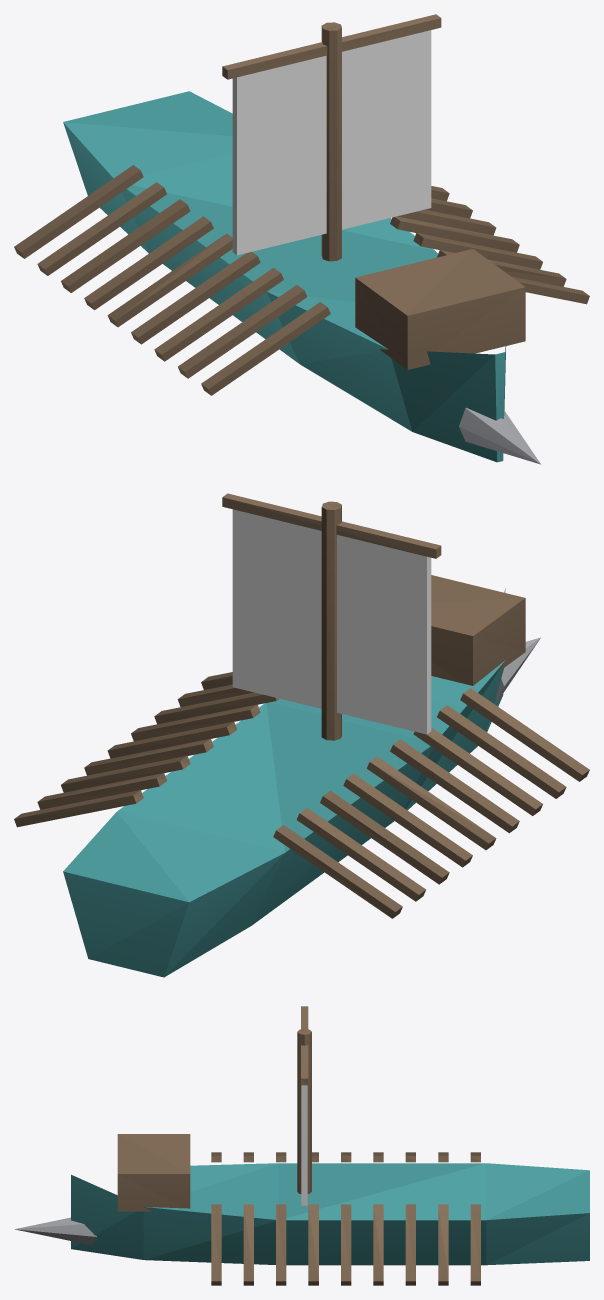
Rendered from Quinquereme.glb.
The picture shows the model from 3 angles, top to bottom: view 1: azimuth 30°, elevation 25°; view 2: azimuth 150°, elevation 25°; view 3: azimuth 270°, elevation 25°; orthographic projection. The views are drawn at different scales.
Visible parts, largest first — view 1: Body; view 2: Body; view 3: Body.
Part boxes in pixels (<box>): Body: <box>14,14,589,464</box>; Body: <box>14,493,589,977</box>; Body: <box>15,1006,589,1285</box>.
Size of the model in its own units: 0.5889 by 0.46 by 1.11.
